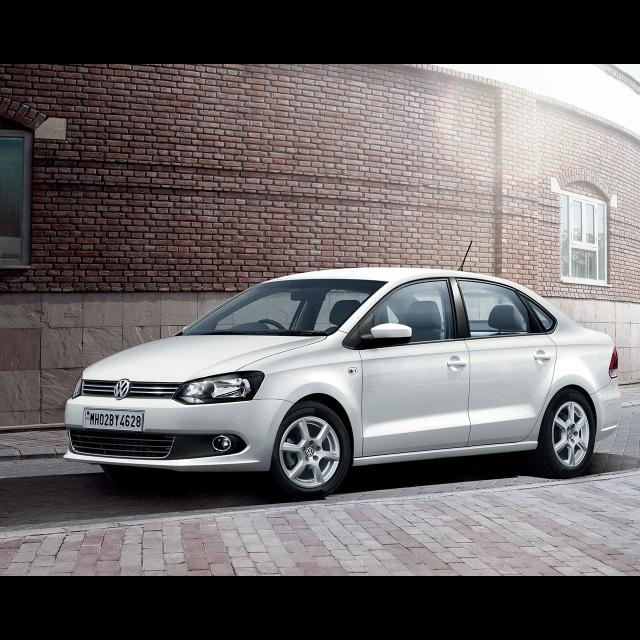vehicles: (62, 258, 622, 500)
